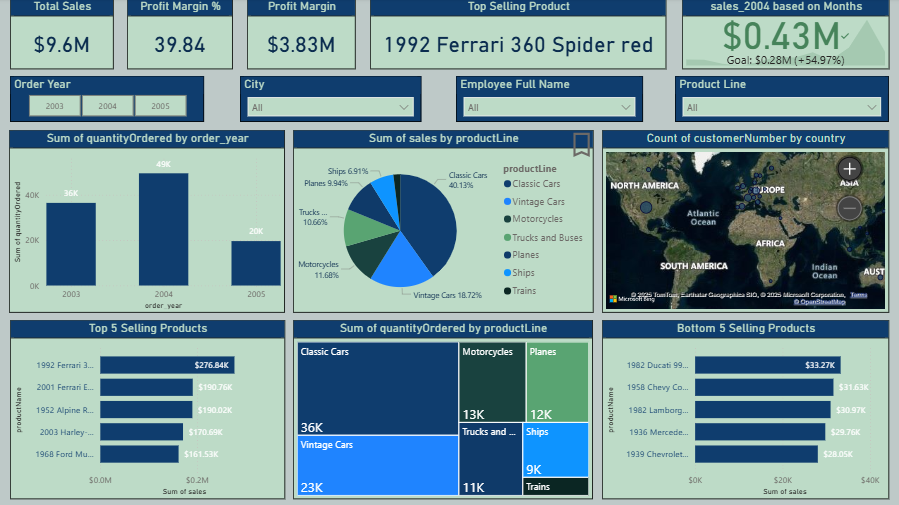

The dashboard page shown, as its layout file describes it:
{"tool":"powerbi","page":{"name":"Page 1","canvas":[1280,720],"ordinal":0},"visuals":[{"type":"card","title":"Profit Margin","fields":{"Values":["order details.total_profit"]},"box":[354.2,0,154.1,100.8],"z":0},{"type":"card","title":"Top Selling Product","fields":{"Values":["order details.MostOrderedProduct"]},"box":[528.5,0,420.5,100.8],"z":1000},{"type":"barChart","title":"Top 5 Selling Products","fields":{"Category":["products.productName"],"Y":["order details.sales"]},"box":[18.4,456.4,389.8,253.7],"z":2000},{"type":"pieChart","fields":{"Category":["products.productLine"],"Y":["order details.sales"]},"box":[418.8,187,426.1,259.4],"z":3000},{"type":"slicer","title":"Order Year","fields":{"Values":["orders.order_year"]},"box":[18.4,110.6,275,65.2],"z":4000},{"type":"kpi","title":"sales_2004 based on Months","fields":{"Goal":["orders.sales_2003"],"TrendLine":["orders.Month Name"],"Indicator":["orders.sales_2004"]},"box":[970.6,0,293.8,100.8],"z":5000},{"type":"map","fields":{"Size":["customers.customerNumber"],"Category":["customers.country"]},"box":[857.5,187.1,406.8,259.4],"z":6000},{"type":"treemap","fields":{"Group":["productlines.productLine"],"Values":["order details.quantityOrdered"]},"box":[419.5,456.4,425.2,253.7],"z":7000},{"type":"card","title":"Profit Margin %","fields":{"Values":["classic_models.Profit_Margin_%"]},"box":[184.3,0,149.8,100.8],"z":8000},{"type":"card","title":"Total Sales","fields":{"Values":["order details.total_sales"]},"box":[18.7,0,146.9,100.8],"z":9000},{"type":"slicer","title":"City","fields":{"Values":["offices.city"]},"box":[344.4,110.6,256.5,65.2],"z":10000},{"type":"slicer","title":"Employee Full Name","fields":{"Values":["employees.EmpFullName"]},"box":[650.6,110.6,265,65.2],"z":11000},{"type":"slicer","title":"Product Line","fields":{"Values":["productlines.productLine"]},"box":[960.9,110.6,303.3,65.2],"z":12000},{"type":"barChart","title":"Bottom 5 Selling Products","fields":{"Category":["products.productName"],"Y":["order details.sales"]},"box":[857.5,456.4,406.8,253.7],"z":13000},{"type":"actionButton","box":[806.6,186.3,51.3,44.4],"z":14000},{"type":"columnChart","fields":{"Category":["orders.order_year"],"Y":["order details.quantityOrdered"]},"box":[17.4,187,391.3,259.4],"z":15000}]}

Visuals, with their boxes in screenshot pixels (x1, y1, x2, y2), scaled from the page's 1280x720 canvas onto the 899x505 screenshot:
"Profit Margin" card: <region>249, 0, 357, 71</region>
"Top Selling Product" card: <region>371, 0, 667, 71</region>
"Top 5 Selling Products" barChart: <region>13, 320, 287, 498</region>
pieChart - products.productLine x order details.sales: <region>294, 131, 593, 313</region>
"Order Year" slicer: <region>13, 78, 206, 123</region>
"sales_2004 based on Months" kpi: <region>682, 0, 888, 71</region>
map - customers.customerNumber x customers.country: <region>602, 131, 888, 313</region>
treemap - productlines.productLine x order details.quantityOrdered: <region>295, 320, 593, 498</region>
"Profit Margin %" card: <region>129, 0, 235, 71</region>
"Total Sales" card: <region>13, 0, 116, 71</region>
"City" slicer: <region>242, 78, 422, 123</region>
"Employee Full Name" slicer: <region>457, 78, 643, 123</region>
"Product Line" slicer: <region>675, 78, 888, 123</region>
"Bottom 5 Selling Products" barChart: <region>602, 320, 888, 498</region>
actionButton: <region>567, 131, 603, 162</region>
columnChart - orders.order_year x order details.quantityOrdered: <region>12, 131, 287, 313</region>
